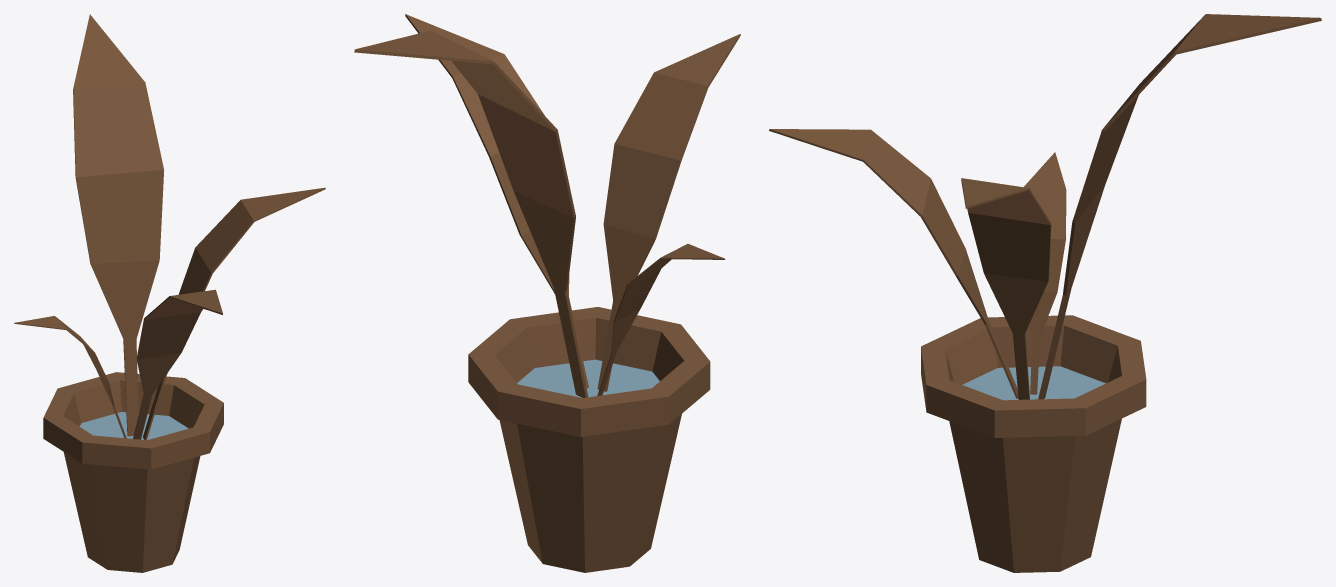
The model's file is Bedroom_Flower.fbx.
3 renders of one model, left to right at view 1: azimuth 30°, elevation 25°; view 2: azimuth 150°, elevation 25°; view 3: azimuth 270°, elevation 25°, orthographic. The views are drawn at different scales.
Visible parts, largest first — view 1: Bedroom_Flower; view 2: Bedroom_Flower; view 3: Bedroom_Flower.
Boxes of the visible parts, x1,y1,x2,y2 form: Bedroom_Flower: (14,14,325,572); Bedroom_Flower: (354,14,740,572); Bedroom_Flower: (769,14,1321,572).
Bounding box in the file's own units: 58.18 × 88.69 × 77.52.
